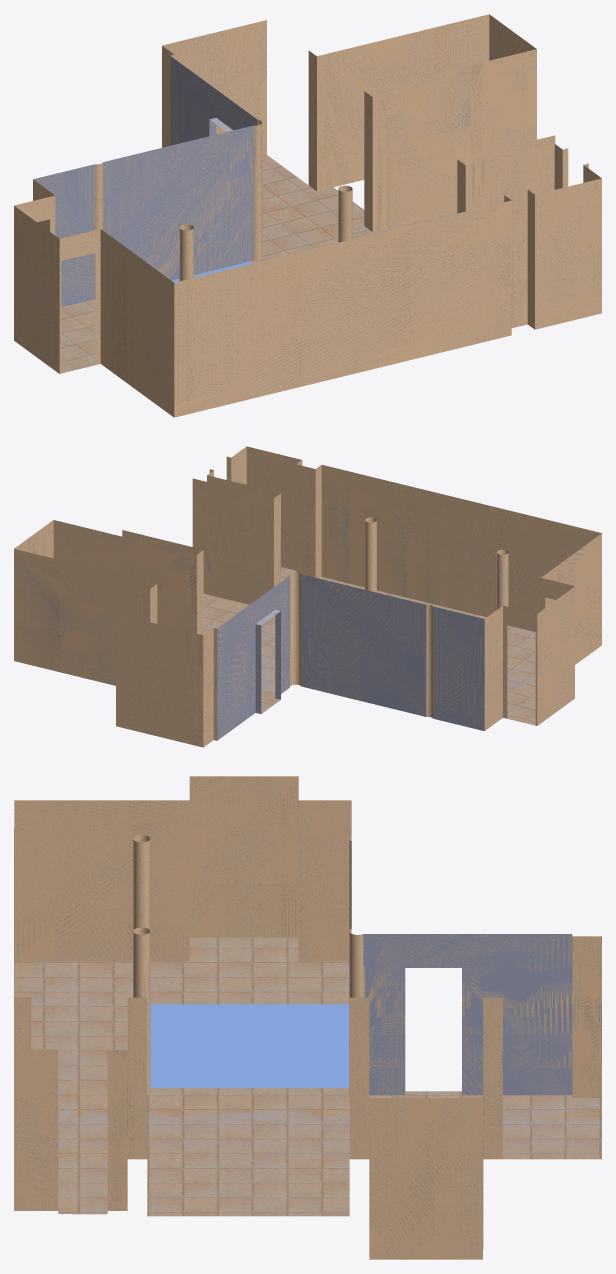
Rendered from COM020.obj.
The picture shows the model from 3 angles, top to bottom: view 1: azimuth 30°, elevation 25°; view 2: azimuth 150°, elevation 25°; view 3: azimuth 270°, elevation 25°; orthographic projection. The views are drawn at different scales.
Parts seen in each view (by area): view 1: Mesh1 COM020 Model; view 2: Mesh1 COM020 Model; view 3: Mesh1 COM020 Model.
Part boxes in pixels (<box>): Mesh1 COM020 Model: <box>14,14,601,417</box>; Mesh1 COM020 Model: <box>14,446,601,747</box>; Mesh1 COM020 Model: <box>14,776,601,1259</box>.
Size of the model in its own units: 15.41 by 3.6 by 11.89.
5 materials, 2 textured.
